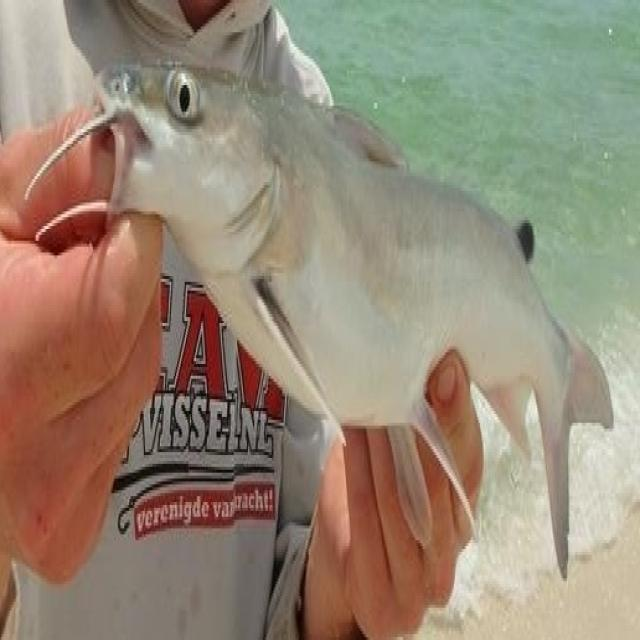Catfish: (70, 56, 639, 629)
